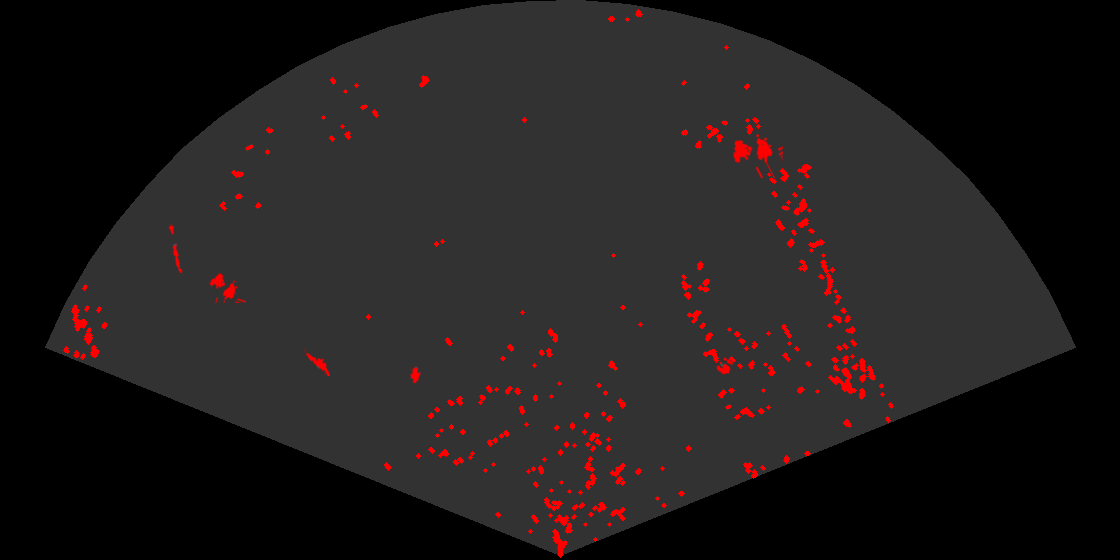AUV: (407, 365, 422, 385)
ball: (715, 356, 735, 376)
cage: (731, 132, 783, 178), (208, 271, 246, 303)
chain: (167, 224, 184, 276)
frogman: (304, 347, 330, 376)
